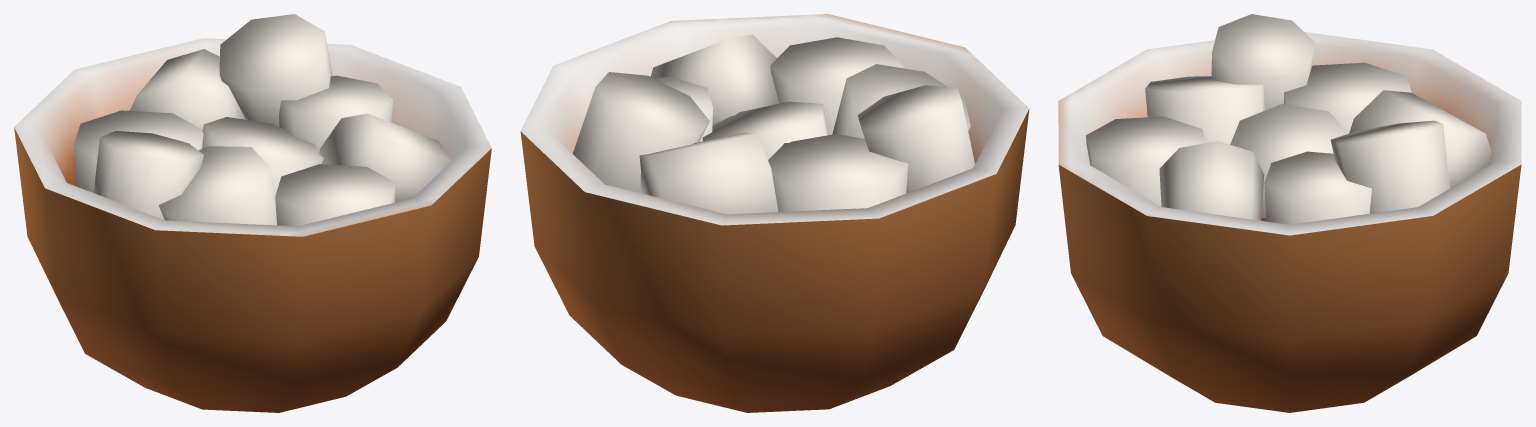
Rendered from BowlofMarshmallows.fbx.
3 renders of one model, left to right at view 1: azimuth 30°, elevation 25°; view 2: azimuth 150°, elevation 25°; view 3: azimuth 270°, elevation 25°, orthographic. The views are drawn at different scales.
Parts seen in each view (by area): view 1: BowlMarshmallows; view 2: BowlMarshmallows; view 3: BowlMarshmallows.
Boxes of the visible parts, box(x1,y1,x2,y2) form: BowlMarshmallows: box(14, 14, 491, 412); BowlMarshmallows: box(520, 14, 1029, 412); BowlMarshmallows: box(1058, 14, 1521, 412).
Size of the model in its own units: 27.48 by 17.37 by 26.14.
